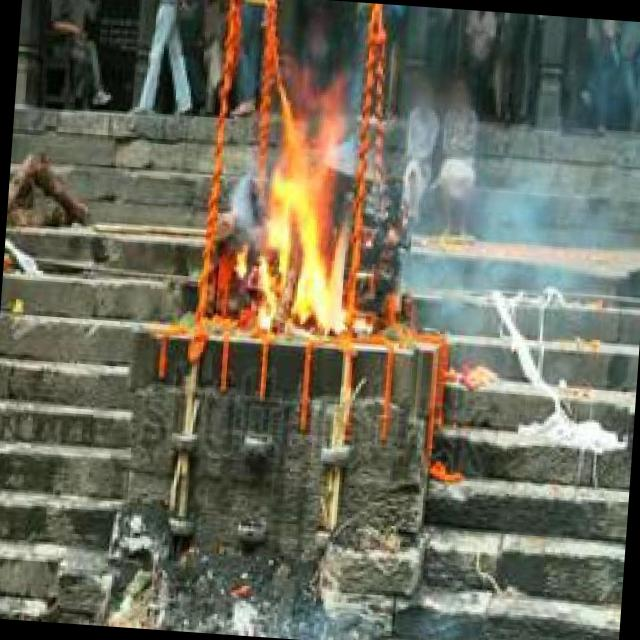Fire: (244, 63, 380, 344)
